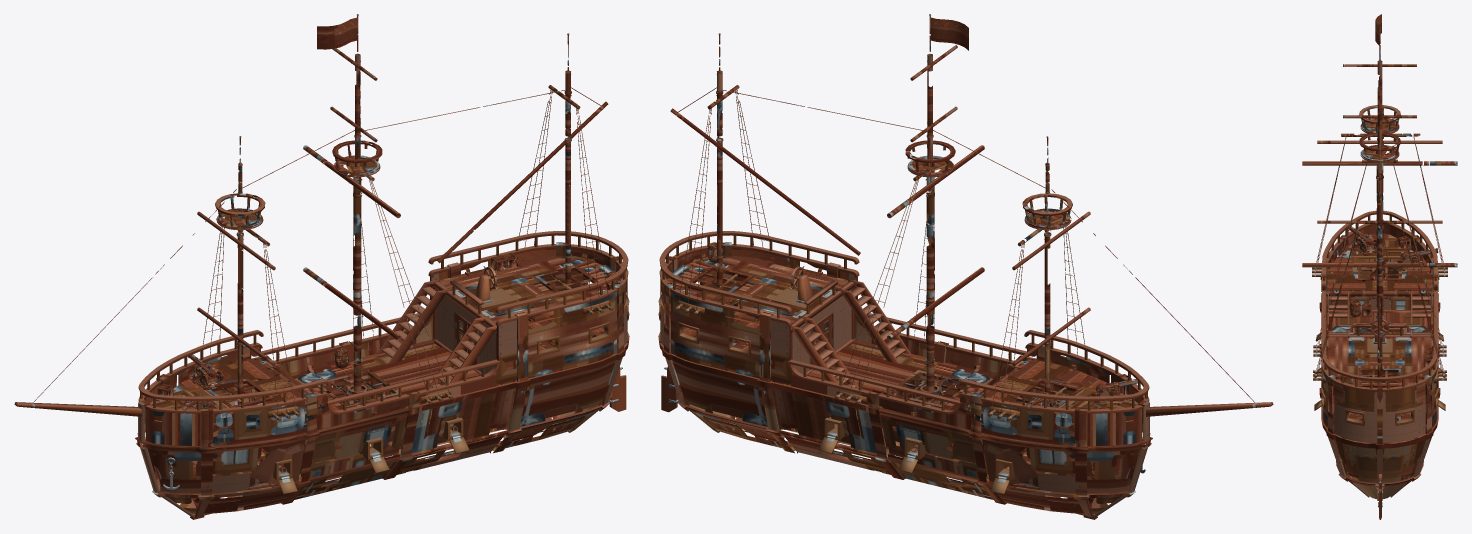
Rendered from ship p6i.fbx.
3 views of the same model, side by side, from view 1: azimuth 30°, elevation 25°; view 2: azimuth 150°, elevation 25°; view 3: azimuth 270°, elevation 25° (orthographic). The views are drawn at different scales.
Visible parts, largest first — view 1: StylShip_Body_Mat_StylShip_ShipHull_0, StylShip_MastMid, StylShip_FloorBackTop_Mat_StylShip_Decks_0, StylShip_FloorMid_Mat_StylShip_Decks_0, StylShip_FencingBack_Mat_StylShip_Elements_0, StylShip_FencingFront_Mat_StylShip_Elements_0, StylShip_StairsTop, StylShip_FencingMid_Mat_StylShip_Elements_0, StylShip_MastFront, StylShip_FloorFront_Mat_StylShip_Decks_0, StylShip_MastBack, StylShip_Wall (+8 smaller); view 2: StylShip_Body_Mat_StylShip_ShipHull_0, StylShip_MastMid, StylShip_FloorBackTop_Mat_StylShip_Decks_0, StylShip_FloorMid_Mat_StylShip_Decks_0, StylShip_FencingBack_Mat_StylShip_Elements_0, StylShip_FencingFront_Mat_StylShip_Elements_0, StylShip_StairsTop, StylShip_FencingMid_Mat_StylShip_Elements_0, StylShip_MastFront, StylShip_FloorFront_Mat_StylShip_Decks_0, StylShip_MastBack, StylShip_Wall (+9 smaller); view 3: StylShip_Body_Mat_StylShip_ShipHull_0, StylShip_FloorFront_Mat_StylShip_Decks_0, StylShip_MastMid, StylShip_FloorBackTop_Mat_StylShip_Decks_0, StylShip_MastFront, StylShip_FencingBack_Mat_StylShip_Elements_0, StylShip_FloorMid_Mat_StylShip_Decks_0, StylShip_FencingFront_Mat_StylShip_Elements_0, StylShip_MastBack, StylShip_StairsSmall_Mat_StylShip_Elements_0, StylShip_WireMid, StylShip_Bracing_Mat_StylShip_Elements_0 (+9 smaller).
Boxes of the visible parts, left/top/right/bottom form: StylShip_Body_Mat_StylShip_ShipHull_0: left=135, top=242, right=629, bottom=519; StylShip_MastMid: left=303, top=14, right=400, bottom=403; StylShip_FloorBackTop_Mat_StylShip_Decks_0: left=439, top=253, right=621, bottom=324; StylShip_FloorMid_Mat_StylShip_Decks_0: left=292, top=340, right=480, bottom=417; StylShip_FencingBack_Mat_StylShip_Elements_0: left=428, top=231, right=628, bottom=326; StylShip_FencingFront_Mat_StylShip_Elements_0: left=138, top=330, right=330, bottom=413; StylShip_StairsTop: left=377, top=279, right=496, bottom=388; StylShip_FencingMid_Mat_StylShip_Elements_0: left=258, top=313, right=499, bottom=414; StylShip_MastFront: left=197, top=136, right=275, bottom=404; StylShip_FloorFront_Mat_StylShip_Decks_0: left=150, top=358, right=323, bottom=424; StylShip_MastBack: left=437, top=33, right=608, bottom=289; StylShip_Wall: left=432, top=280, right=501, bottom=386; StylShip_Body_Mat_StylShip_ShipHull_0: left=658, top=242, right=1152, bottom=519; StylShip_MastMid: left=887, top=14, right=984, bottom=403; StylShip_FloorBackTop_Mat_StylShip_Decks_0: left=666, top=253, right=848, bottom=324; StylShip_FloorMid_Mat_StylShip_Decks_0: left=807, top=340, right=995, bottom=417; StylShip_FencingBack_Mat_StylShip_Elements_0: left=659, top=231, right=859, bottom=326; StylShip_FencingFront_Mat_StylShip_Elements_0: left=957, top=330, right=1149, bottom=413; StylShip_StairsTop: left=791, top=279, right=910, bottom=388; StylShip_FencingMid_Mat_StylShip_Elements_0: left=788, top=313, right=1029, bottom=414; StylShip_MastFront: left=1012, top=136, right=1090, bottom=394; StylShip_FloorFront_Mat_StylShip_Decks_0: left=964, top=358, right=1137, bottom=424; StylShip_MastBack: left=670, top=33, right=860, bottom=289; StylShip_Wall: left=786, top=280, right=855, bottom=386; StylShip_Body_Mat_StylShip_ShipHull_0: left=1319, top=219, right=1440, bottom=500; StylShip_FloorFront_Mat_StylShip_Decks_0: left=1325, top=233, right=1434, bottom=312; StylShip_MastMid: left=1302, top=27, right=1457, bottom=321; StylShip_FloorBackTop_Mat_StylShip_Decks_0: left=1326, top=337, right=1433, bottom=392; StylShip_MastFront: left=1317, top=58, right=1442, bottom=332; StylShip_FencingBack_Mat_StylShip_Elements_0: left=1322, top=317, right=1437, bottom=391; StylShip_FloorMid_Mat_StylShip_Decks_0: left=1326, top=312, right=1433, bottom=374; StylShip_FencingFront_Mat_StylShip_Elements_0: left=1322, top=210, right=1437, bottom=286; StylShip_MastBack: left=1356, top=171, right=1403, bottom=384; StylShip_StairsSmall_Mat_StylShip_Elements_0: left=1327, top=289, right=1432, bottom=324; StylShip_WireMid: left=1316, top=163, right=1443, bottom=353; StylShip_Bracing_Mat_StylShip_Elements_0: left=1312, top=267, right=1447, bottom=383.
Size of the model in its own units: 934 by 679 by 248.
Materials: 6 (6 with a texture image).
